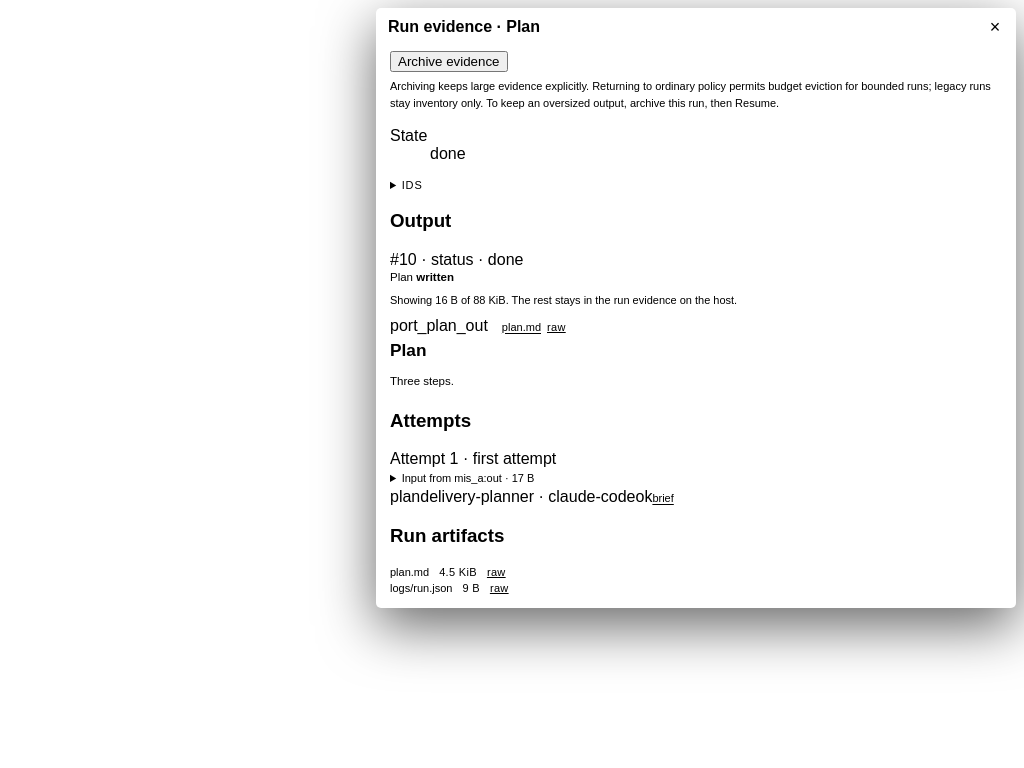
Test: RunEvidence › opens an artifact from the run list and follows its links to other artifacts
This screenshot has width=1024, height=768.
(page scrolled)
Click the button "plan.md" next to "4.5 KiB" at (410, 572), box x1=390 y1=566 x2=429 y2=578
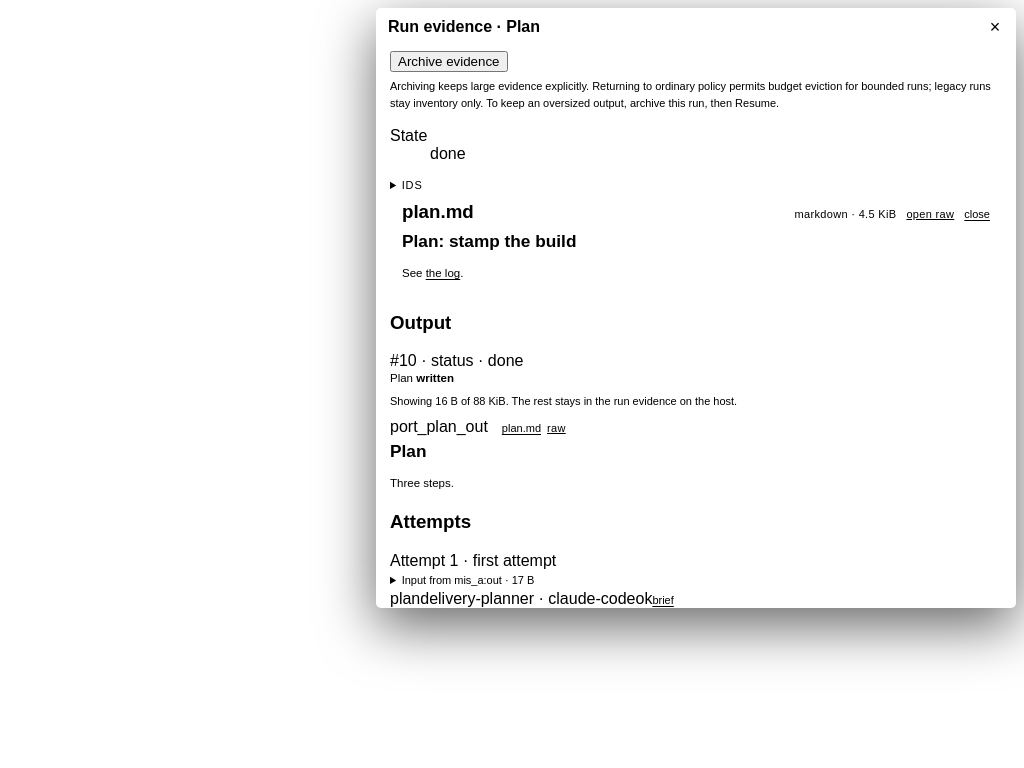
Result: the heading "Plan: stamp the build" is shown at x1=402 y1=231 x2=576 y2=251
Click the link "the log" at (443, 273), box x1=426 y1=267 x2=460 y2=279
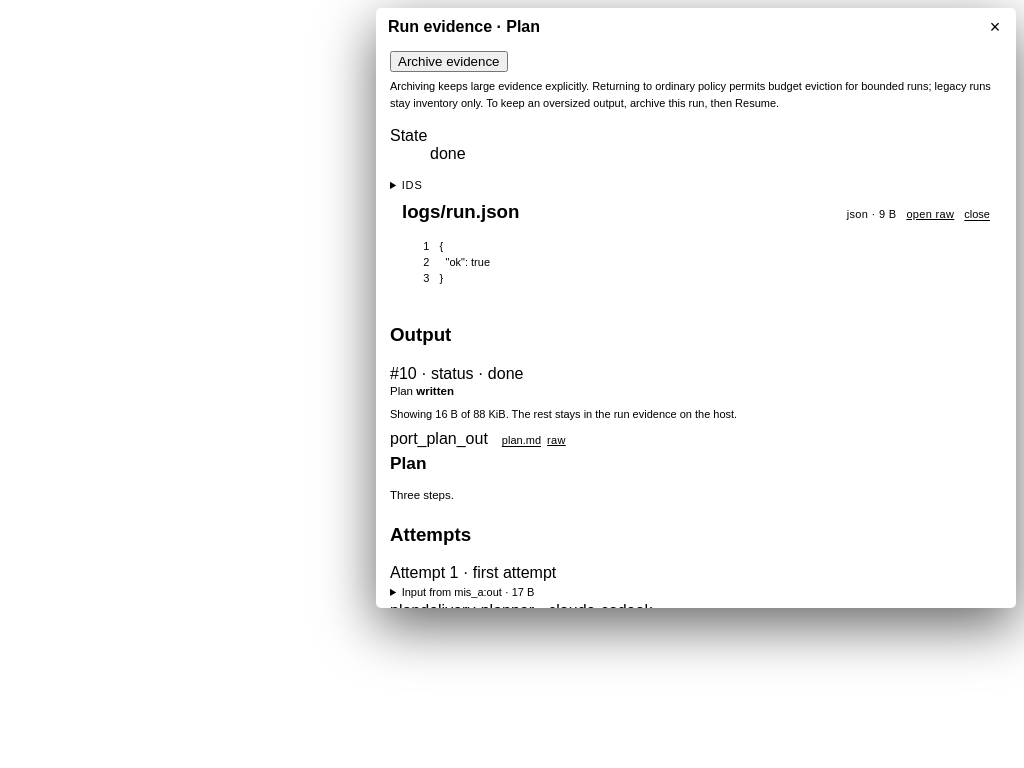
Result: the element with test id "evidence-document" shows "logs/run.json" at x1=402 y1=201 x2=519 y2=222
Result: the text named "logs/run.json" shows "\"ok\": true" at x1=439 y1=240 x2=490 y2=284
